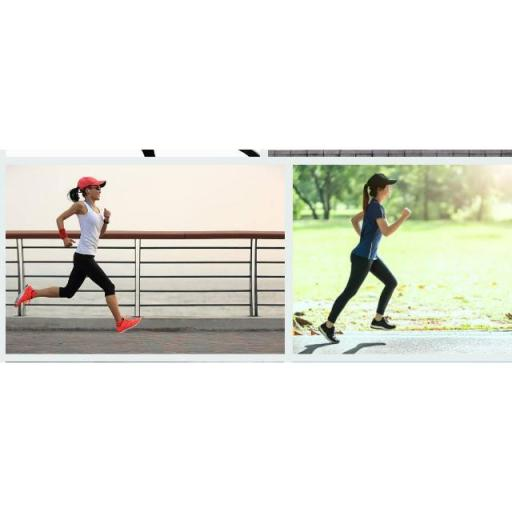Running: (12, 174, 142, 334), (318, 173, 410, 346)
